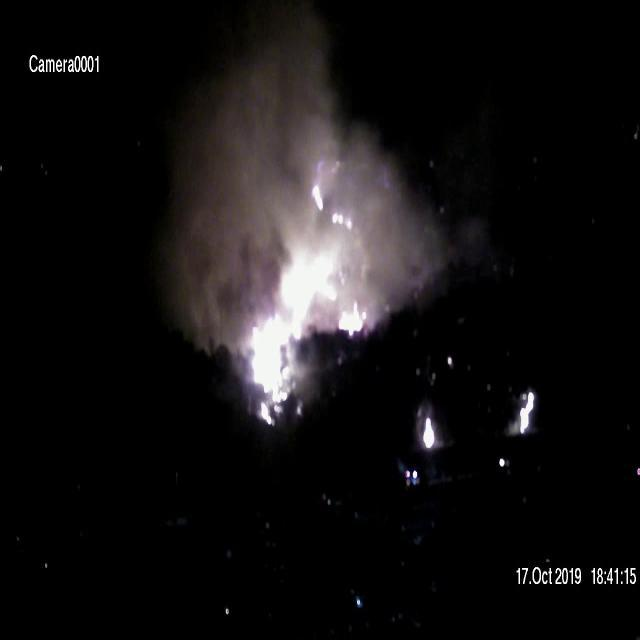Fire: (238, 256, 338, 419), (338, 302, 366, 338), (516, 391, 536, 437), (418, 417, 439, 449), (308, 178, 326, 213), (329, 212, 354, 230)
Smoke: (172, 33, 442, 351)
